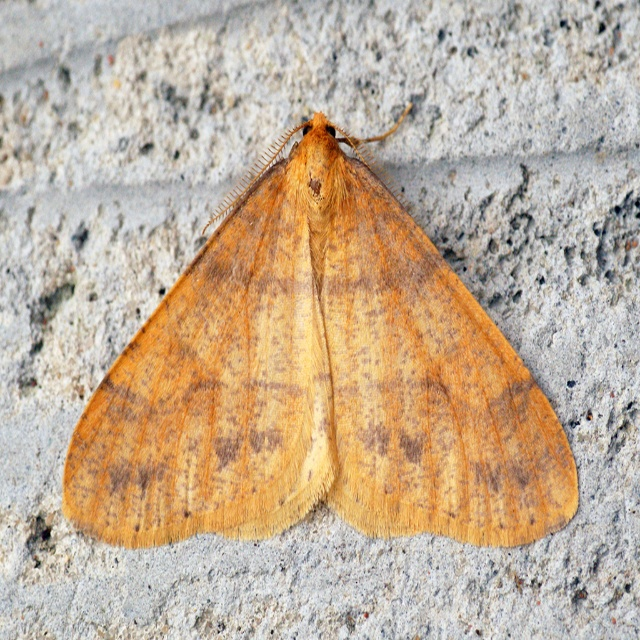Butterfly: (67, 82, 570, 567)
